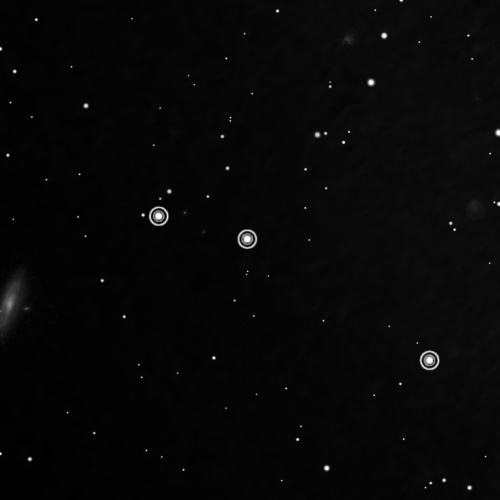vulpecula: (146, 200, 445, 375)
